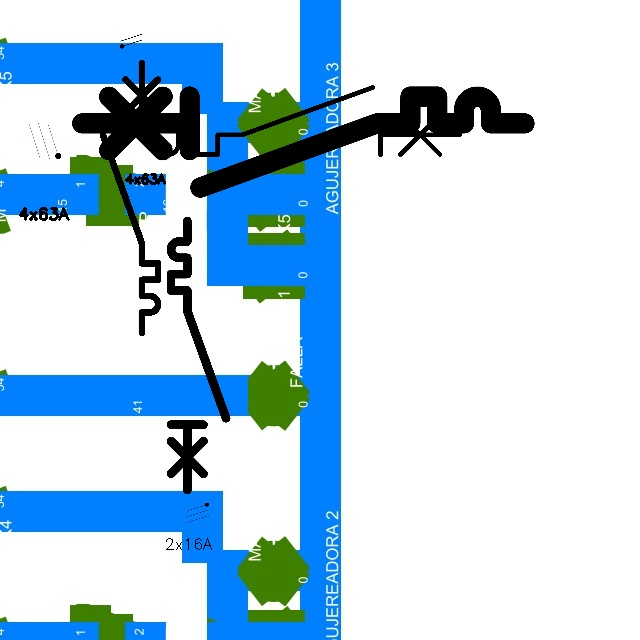interruptor_termomagnetico: (70, 85, 535, 199), (125, 79, 468, 163), (96, 56, 165, 340), (164, 214, 233, 497)
